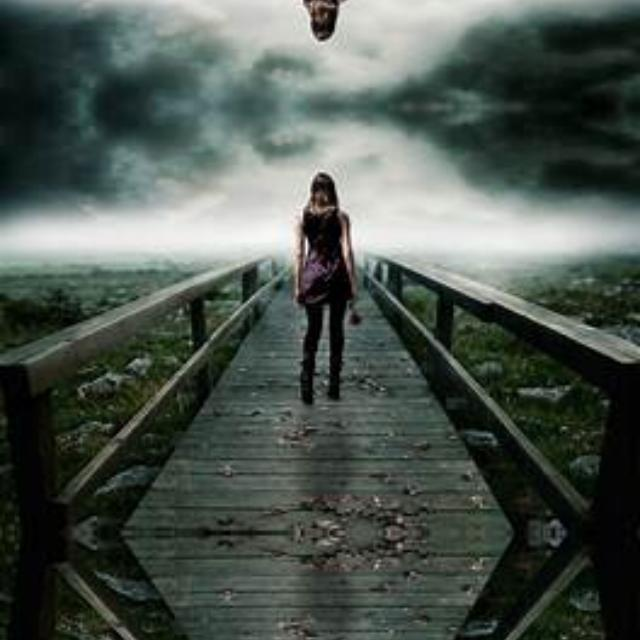person: (277, 161, 383, 393), (277, 0, 383, 51)
